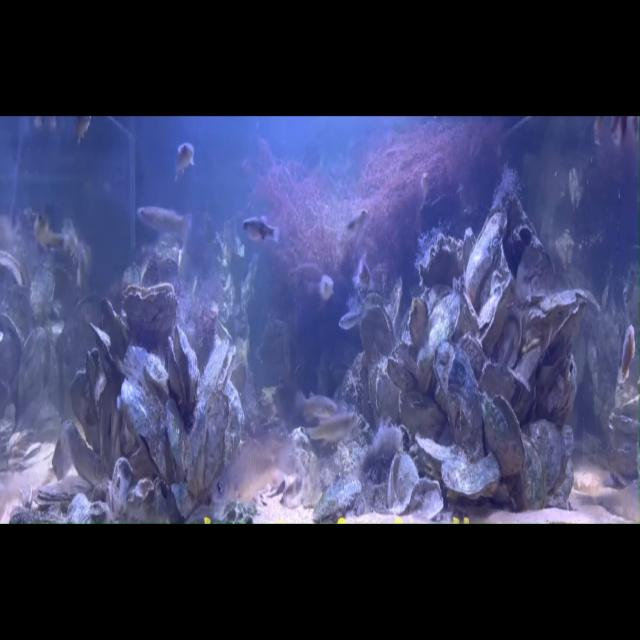Oyster- Indeterminate: (7, 323, 61, 441), (499, 304, 520, 367)
Oyster-Closed: (103, 370, 200, 481), (422, 335, 495, 465), (405, 287, 467, 397), (181, 386, 231, 500), (115, 341, 183, 401), (468, 275, 518, 356), (526, 415, 575, 492), (388, 453, 444, 520), (86, 295, 141, 362), (439, 452, 502, 500), (404, 432, 461, 485), (34, 468, 94, 512), (219, 381, 246, 466), (517, 434, 547, 509), (396, 294, 434, 350), (456, 289, 479, 338)
Oyster-Open: (70, 347, 120, 469), (528, 280, 600, 347), (477, 388, 528, 479), (49, 418, 112, 490), (199, 319, 256, 398), (415, 229, 475, 287), (309, 467, 364, 527), (124, 282, 178, 342), (534, 351, 579, 423), (162, 396, 196, 488), (383, 341, 437, 397), (95, 461, 143, 523), (118, 477, 183, 522), (168, 324, 199, 416), (131, 244, 182, 292), (399, 391, 446, 439), (474, 359, 522, 405), (360, 293, 392, 361), (0, 313, 23, 398), (0, 249, 28, 303), (376, 367, 399, 422)
